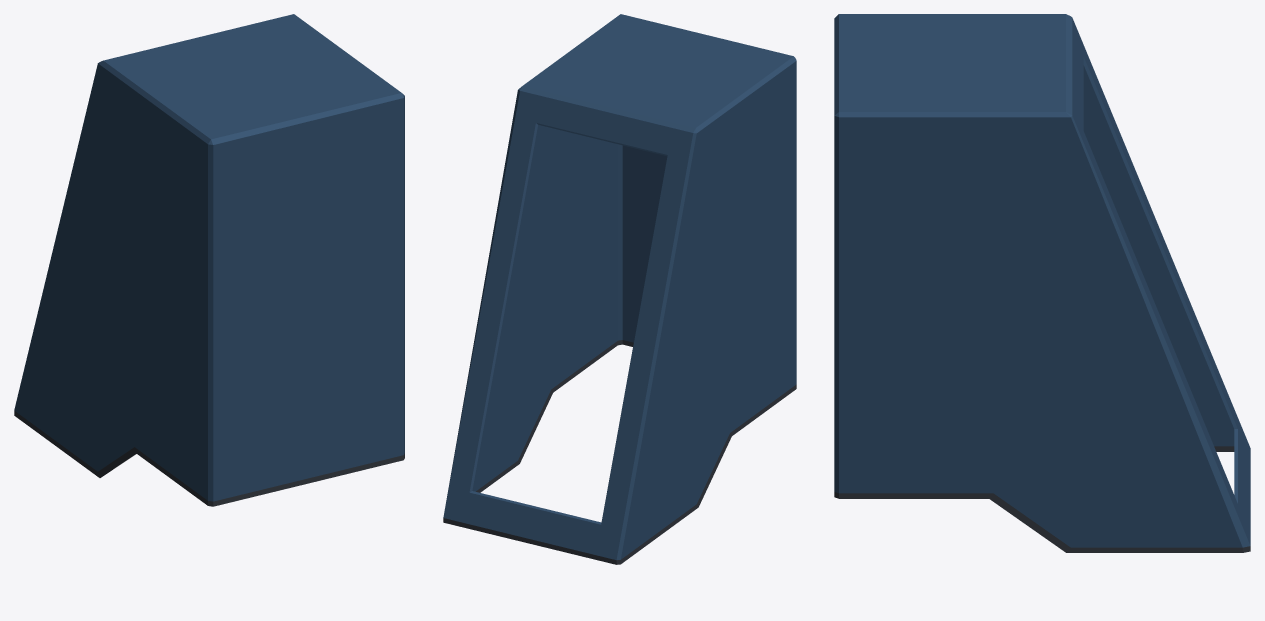
File: g_o_TrainingObject_Ladder_01.fbx
3 views of the same model, side by side, from view 1: azimuth 30°, elevation 25°; view 2: azimuth 150°, elevation 25°; view 3: azimuth 270°, elevation 25° (orthographic). The views are drawn at different scales.
Visible parts, largest first — view 1: g_o_LadderTrainer; view 2: g_o_LadderTrainer; view 3: g_o_LadderTrainer.
Part boxes in pixels (x1=…): g_o_LadderTrainer: x1=14, y1=14, x2=404, y2=506; g_o_LadderTrainer: x1=443, y1=14, x2=796, y2=564; g_o_LadderTrainer: x1=834, y1=14, x2=1250, y2=552.
Bounding box in the file's own units: 0.88 × 1.8 × 1.39.
